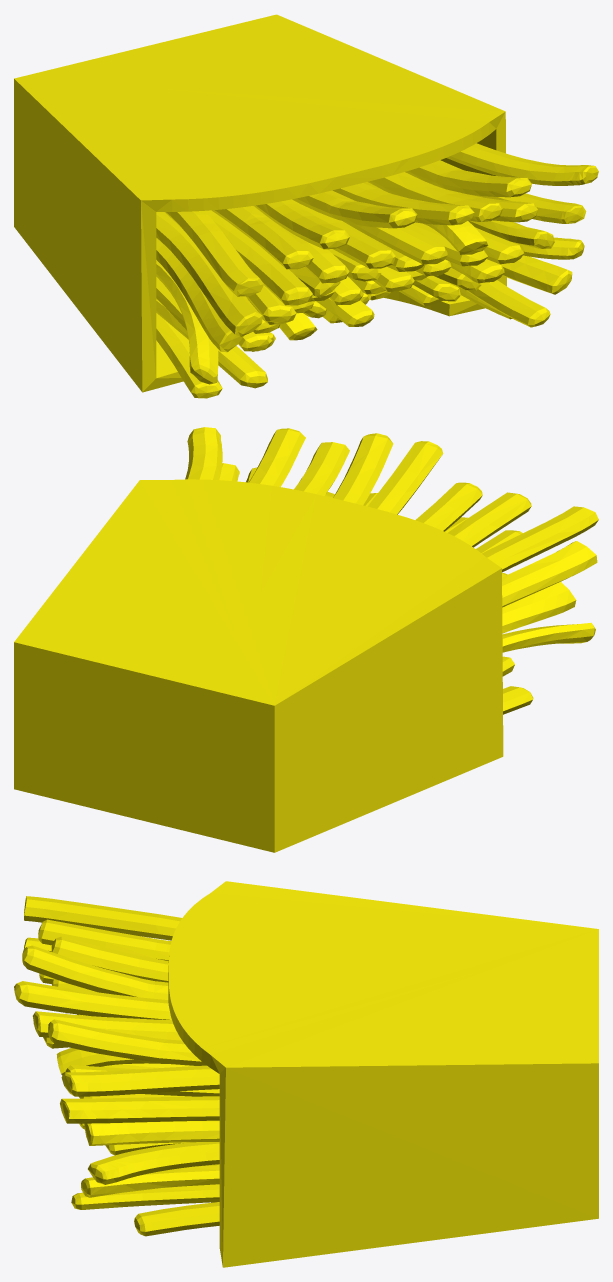
Rendered from Pommes.obj.
3 renders of one model, top to bottom at view 1: azimuth 30°, elevation 25°; view 2: azimuth 150°, elevation 25°; view 3: azimuth 270°, elevation 25°, orthographic. The views are drawn at different scales.
Parts seen in each view (by area): view 1: Object.1; view 2: Object.1; view 3: Object.1.
Boxes of the visible parts, x1,y1,x2,y2 form: Object.1: [14, 14, 598, 398]; Object.1: [14, 427, 598, 852]; Object.1: [14, 881, 598, 1267].
Bounding box in the file's own units: 99.48 × 48.65 × 118.
